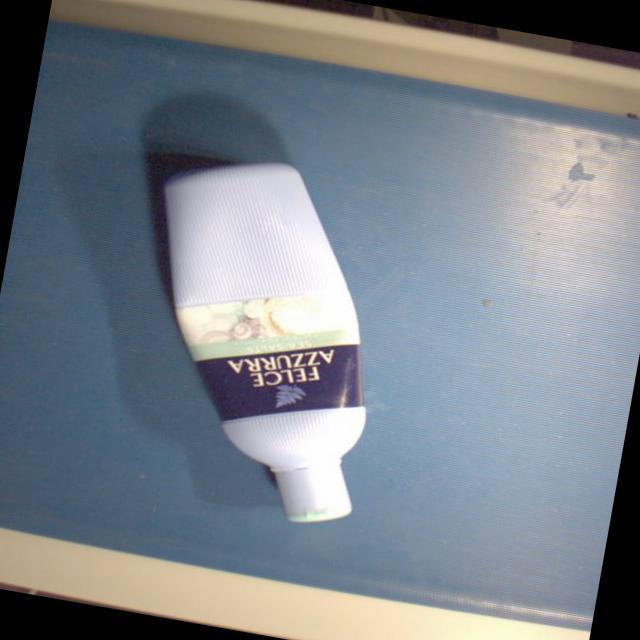HDPE Plastic: (158, 154, 370, 528)
